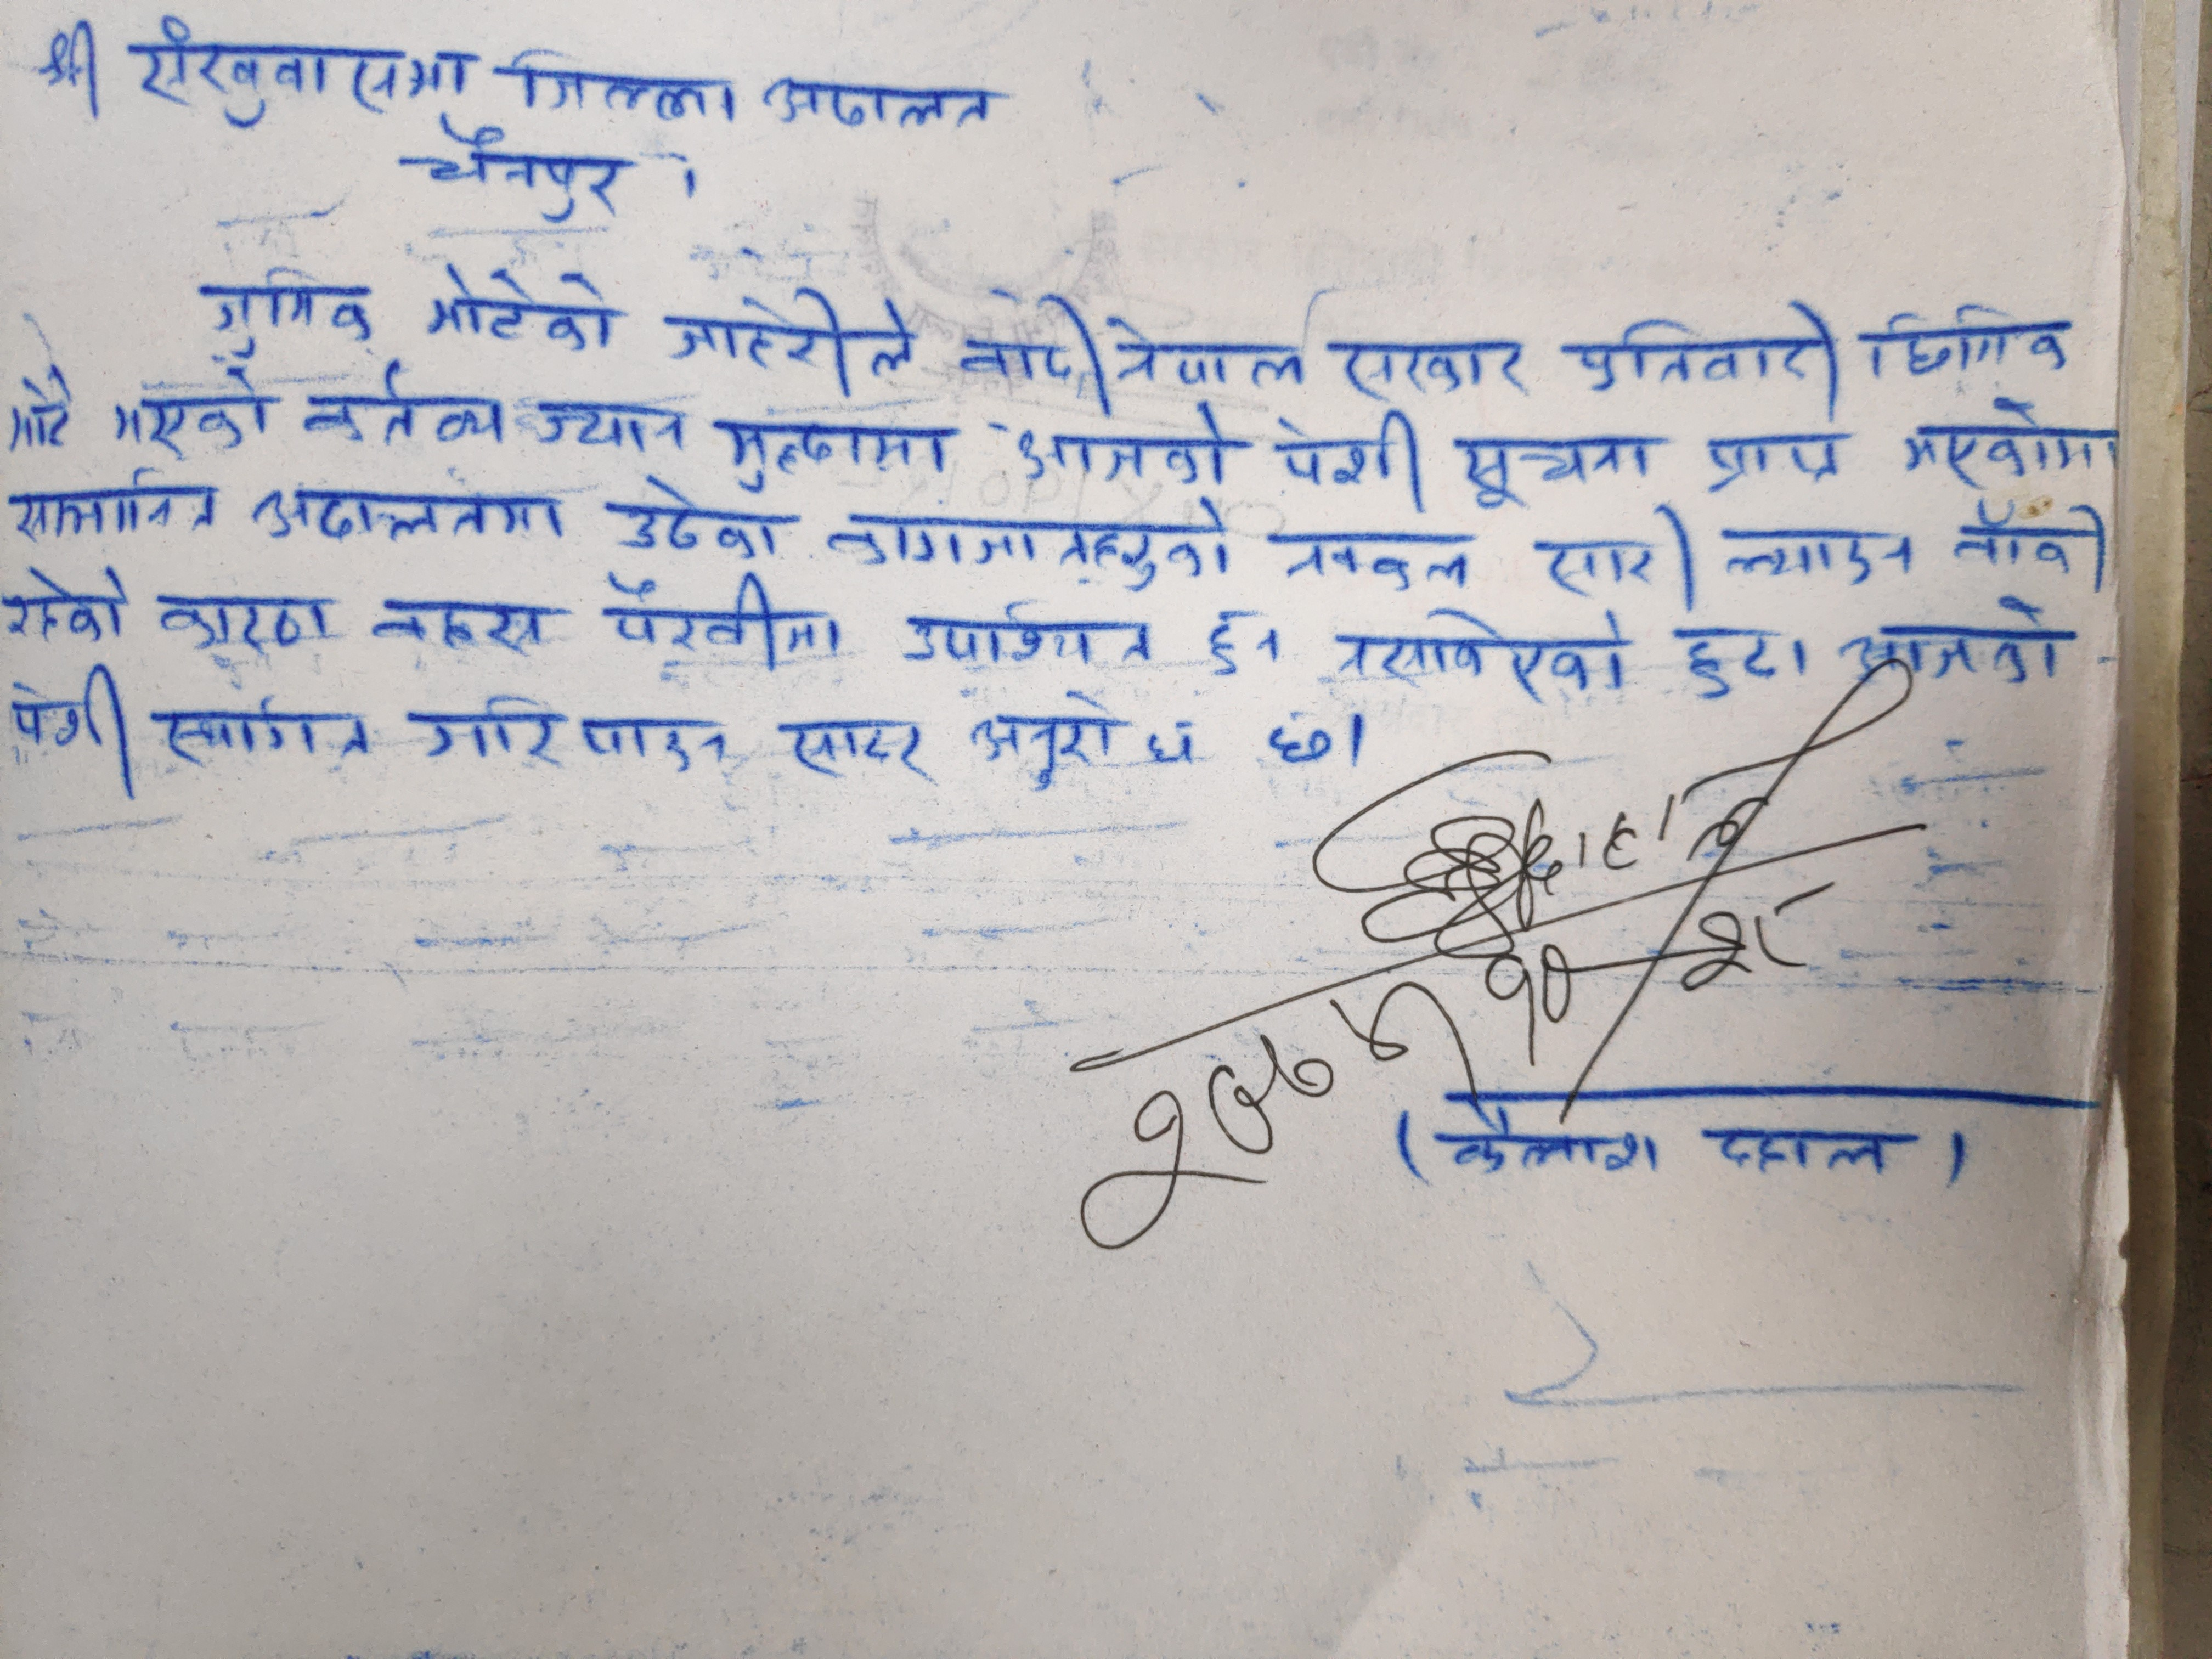text: (129, 14, 474, 127), (824, 498, 1231, 594), (1327, 601, 1635, 704), (1564, 295, 1848, 404), (408, 692, 728, 781), (963, 685, 1205, 800), (590, 568, 841, 676), (660, 288, 918, 390), (394, 122, 631, 228), (1841, 591, 2078, 694), (254, 477, 564, 552), (1898, 389, 2123, 491), (899, 589, 1160, 674), (1003, 403, 1233, 493), (719, 408, 958, 495), (505, 45, 745, 131), (421, 258, 624, 356), (294, 364, 519, 451), (1104, 303, 1306, 396), (1433, 1100, 1669, 1178), (1858, 300, 2078, 383), (951, 291, 1101, 410), (192, 263, 381, 356), (1949, 493, 2111, 598), (9, 660, 138, 791), (1536, 504, 1700, 605), (150, 702, 380, 774), (105, 364, 275, 460), (10, 469, 221, 545), (1270, 399, 1425, 500), (1444, 434, 1651, 509), (1261, 519, 1474, 591), (763, 73, 1015, 132), (606, 474, 782, 558), (1336, 335, 1534, 408), (1717, 518, 1919, 589), (1709, 1112, 1897, 1182), (155, 589, 341, 655), (369, 596, 557, 659), (521, 389, 697, 455), (1672, 622, 1806, 702), (5, 565, 132, 647), (1698, 429, 1841, 498), (782, 716, 930, 781), (1200, 601, 1287, 687), (7, 373, 87, 460), (37, 16, 103, 115), (1256, 708, 1343, 774)
